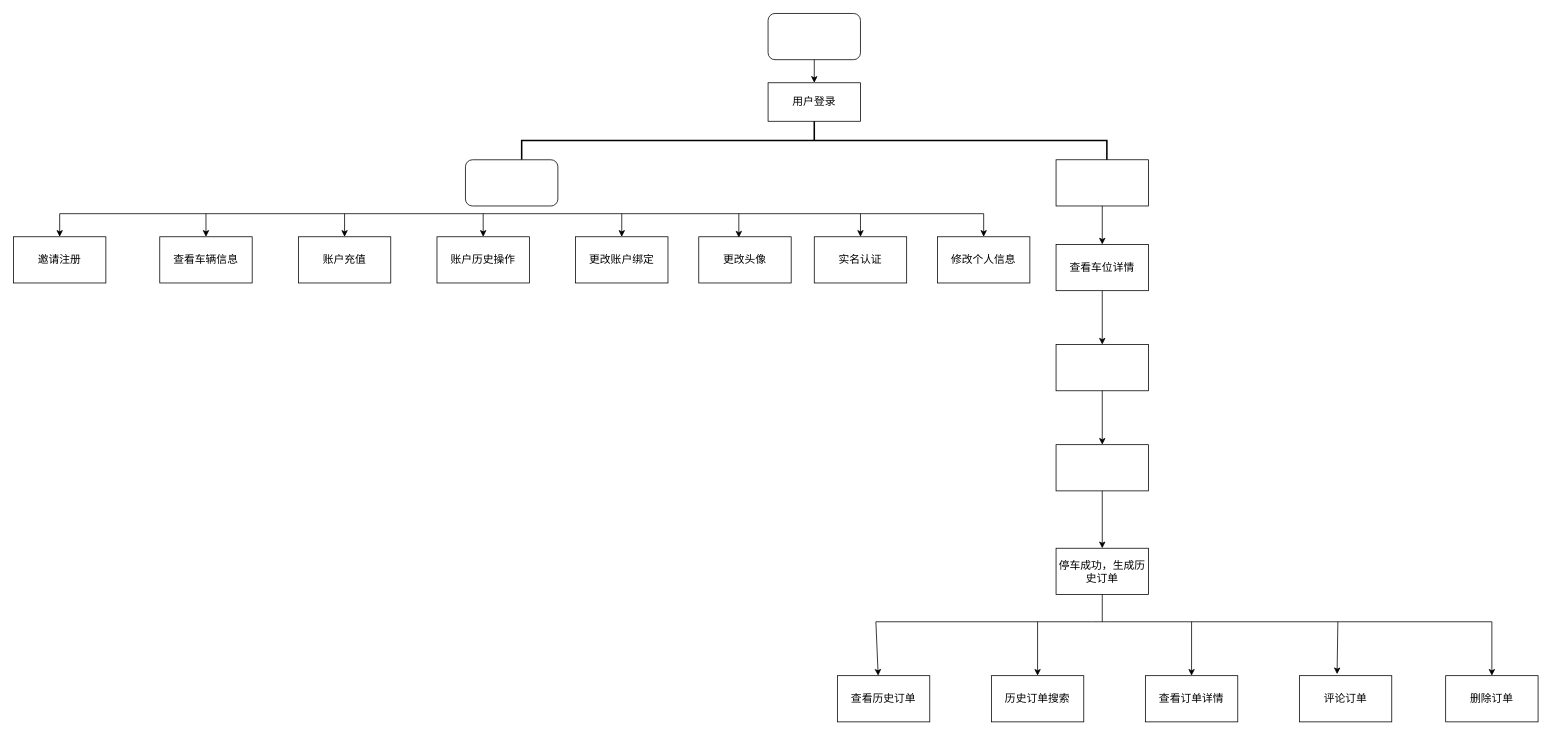
Image size: 1552x735. Some labels were removed from this diagram. Here are the shapes that lost their labels. From the top down, the centre of each, then its label:
At point (813, 36): "注册，生成个人信息".
At point (511, 182): "个人信息".
At point (1101, 182): "搜索车位".
At point (1101, 367): "车位抢购".
At point (1101, 467): "车位导航".
